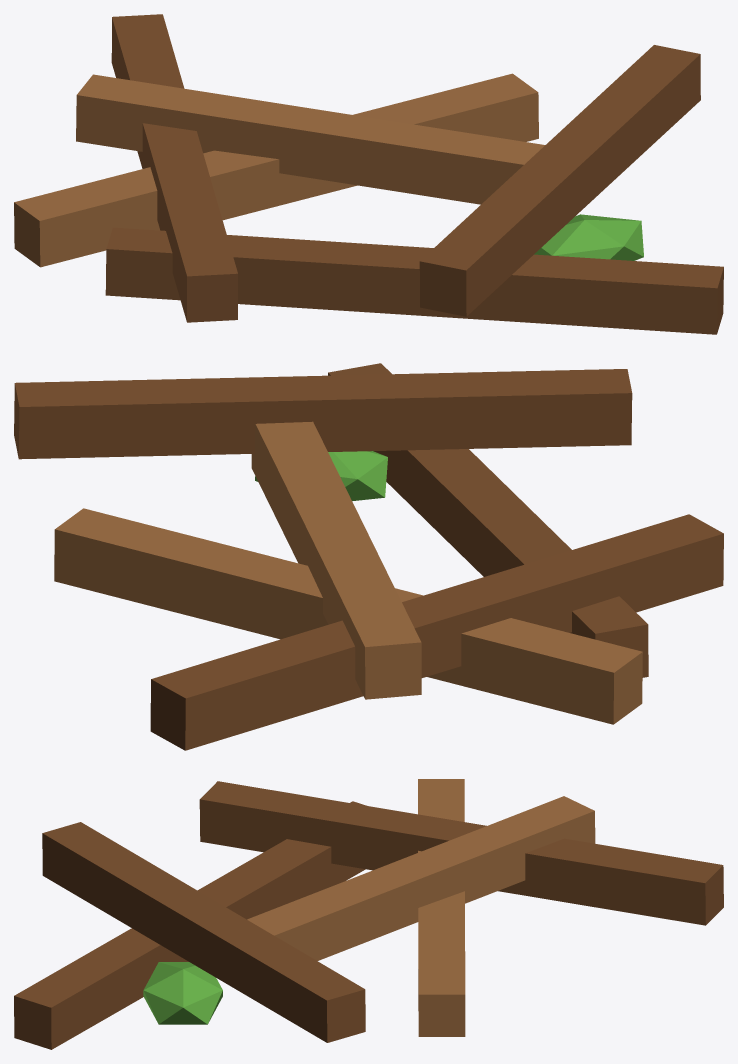
Rendered from sticks.glb.
The picture shows the model from 3 angles, top to bottom: view 1: azimuth 30°, elevation 25°; view 2: azimuth 150°, elevation 25°; view 3: azimuth 270°, elevation 25°; orthographic projection. The views are drawn at different scales.
Parts seen in each view (by area): view 1: plank_dark, plank, leaf; view 2: plank_dark, plank, leaf; view 3: plank_dark, plank, leaf.
Part boxes in pixels (x1,y1,x2,y2): plank_dark: (105, 14, 723, 334); plank: (14, 73, 544, 267); leaf: (534, 214, 643, 260); plank_dark: (14, 363, 723, 750); plank: (54, 421, 642, 724); leaf: (255, 451, 387, 501); plank_dark: (14, 781, 723, 1049); plank: (247, 779, 595, 1036); leaf: (143, 962, 222, 1024).
Size of the model in its own units: 0.481 by 0.088 by 0.5318.
